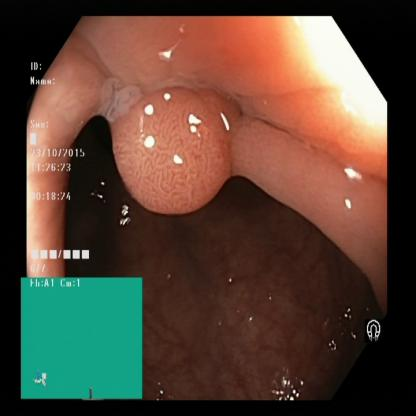Labels: (20, 278, 144, 399), (27, 60, 96, 276), (366, 312, 386, 348)
Polyps: (104, 90, 235, 212)
